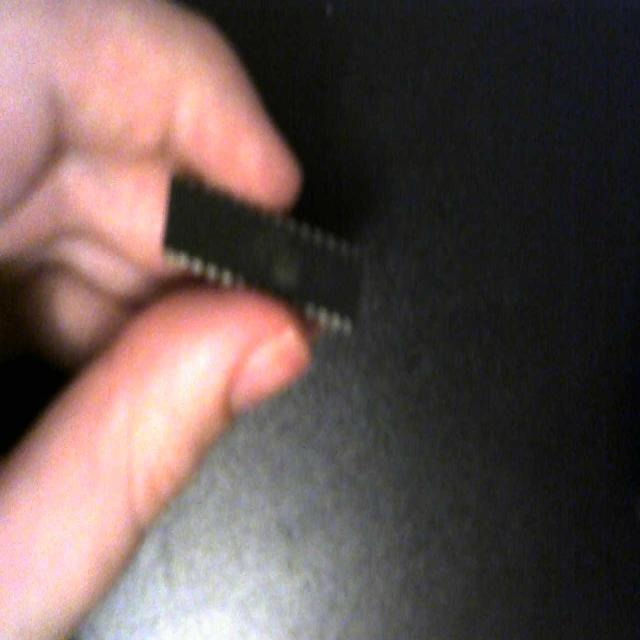atmega: (154, 157, 366, 346)
